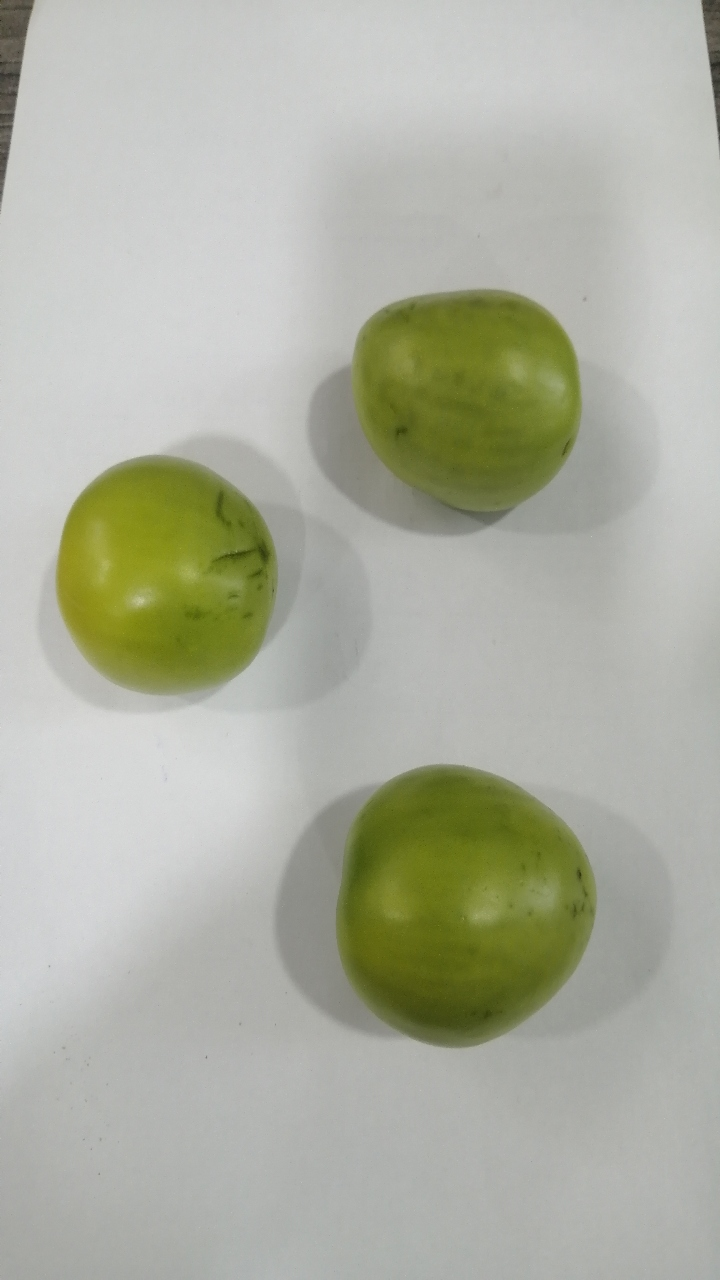tomateVerde: (314, 239, 628, 523), (29, 432, 320, 726), (335, 748, 600, 1065)
